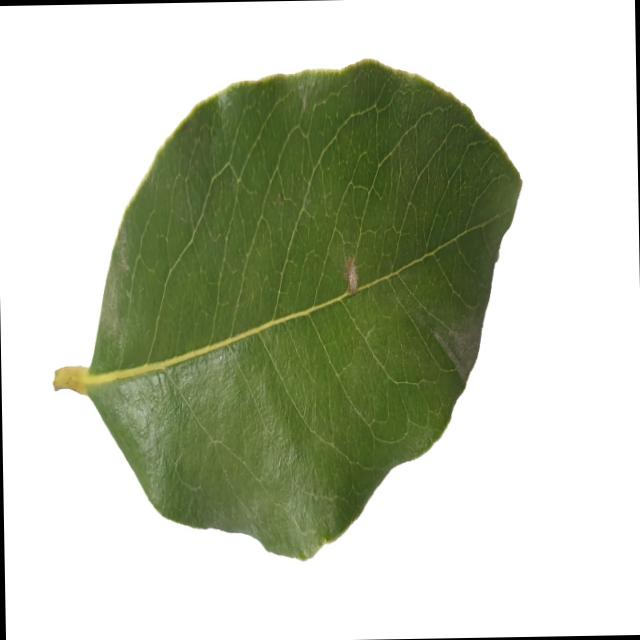Medicinal-Sandalwood: (49, 57, 529, 566)
